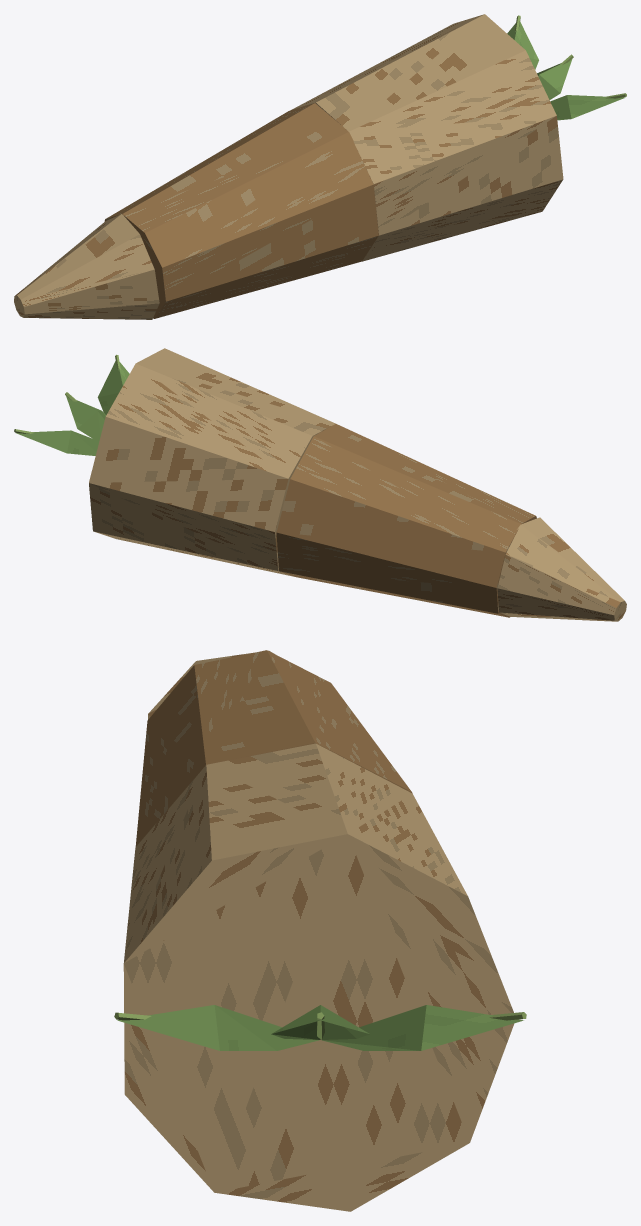
File: chicory_raw.glb
3 views of the same model, one above another, from view 1: azimuth 30°, elevation 25°; view 2: azimuth 150°, elevation 25°; view 3: azimuth 270°, elevation 25° (orthographic). The views are drawn at different scales.
Parts seen in each view (by area): view 1: block_tapering root 2, block_tapering root 1, block_tapering root 0, block_trimmed leaf stalk tip (×2); view 2: block_tapering root 2, block_tapering root 1, block_tapering root 0, block_trimmed leaf stalk tip (×3), block_trimmed leaf stalk blade (×2); view 3: block_tapering root 2, block_tapering root 1, block_trimmed leaf stalk blade (×2), block_trimmed leaf stalk tip (×2).
Boxes of the visible parts, x1,y1,x2,y2 form: block_tapering root 2: [291, 14, 563, 261]; block_tapering root 1: [104, 103, 378, 318]; block_tapering root 0: [14, 214, 159, 319]; block_trimmed leaf stalk tip (×2): [539, 59, 625, 118]; block_tapering root 2: [89, 348, 335, 576]; block_tapering root 1: [276, 424, 536, 617]; block_tapering root 0: [497, 517, 626, 621]; block_trimmed leaf stalk tip (×3): [16, 361, 122, 453]; block_trimmed leaf stalk blade (×2): [67, 411, 104, 455]; block_tapering root 2: [123, 743, 514, 1211]; block_tapering root 1: [135, 650, 412, 846]; block_trimmed leaf stalk blade (×2): [214, 1005, 426, 1050]; block_trimmed leaf stalk tip (×2): [117, 1005, 523, 1050].
Bounding box in the file's own units: 0.117 × 0.0375 × 0.0384.
2 materials, 2 textured.
